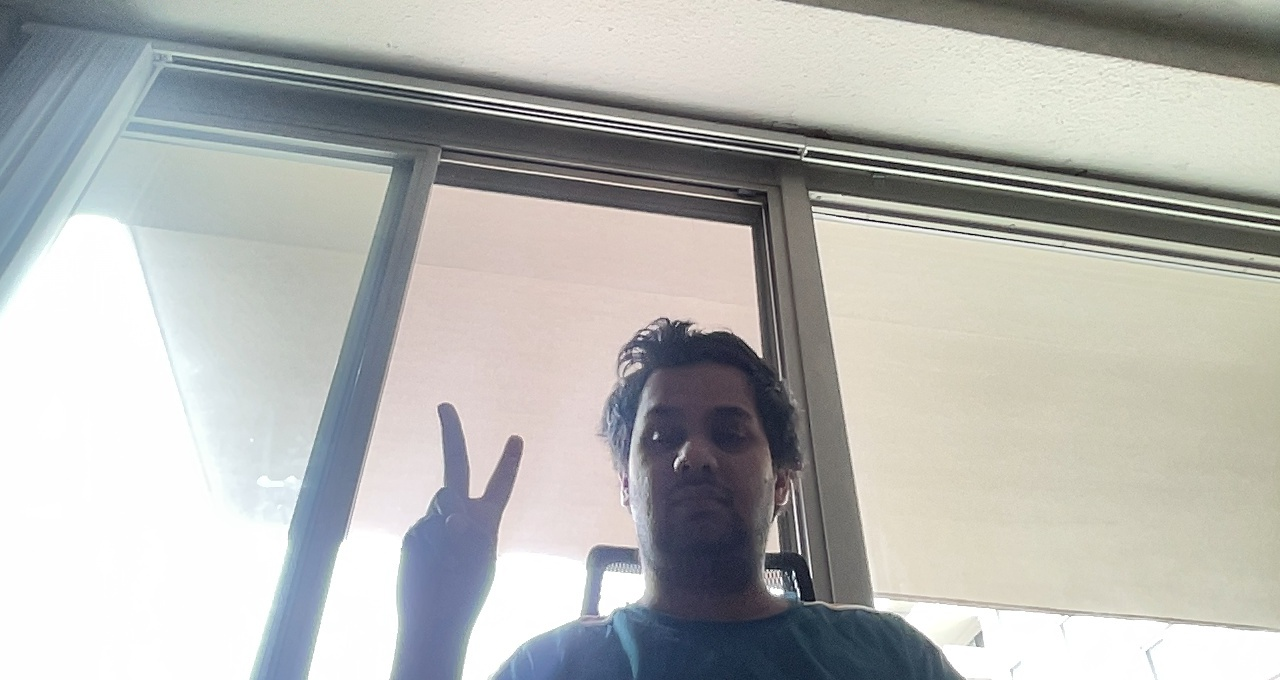peace sign: (387, 370, 535, 648)
